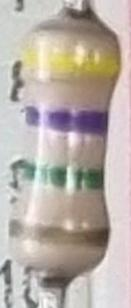Blue: (24, 104, 109, 137)
Green: (14, 165, 106, 194)
Side-Silver: (8, 218, 113, 251)
Yellow: (22, 48, 122, 84)
